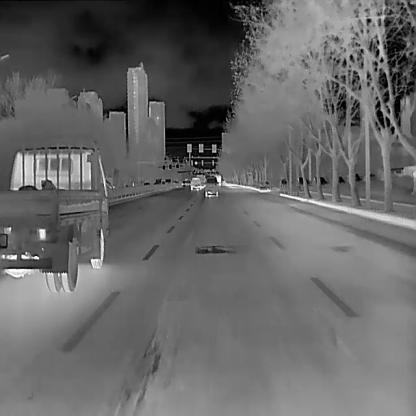car: (203, 176, 218, 198), (296, 176, 310, 190), (189, 177, 200, 192), (311, 176, 327, 184), (280, 177, 286, 189)
truck: (0, 139, 120, 292)
